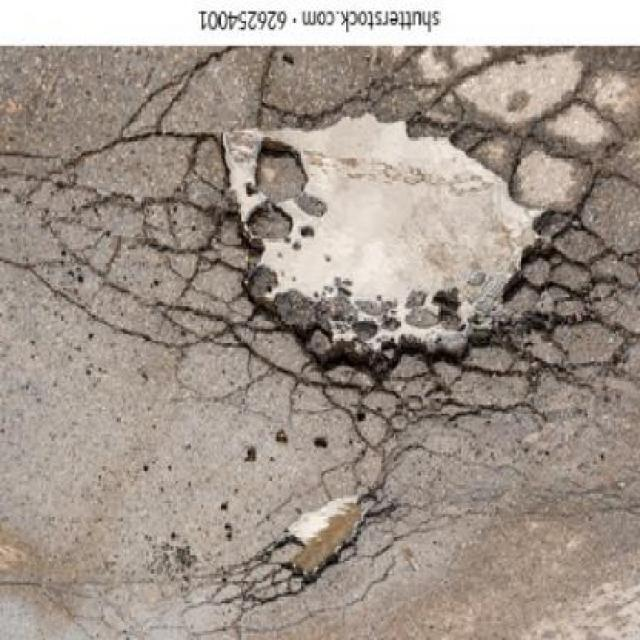Pothole: (222, 115, 534, 376), (289, 496, 366, 575)
